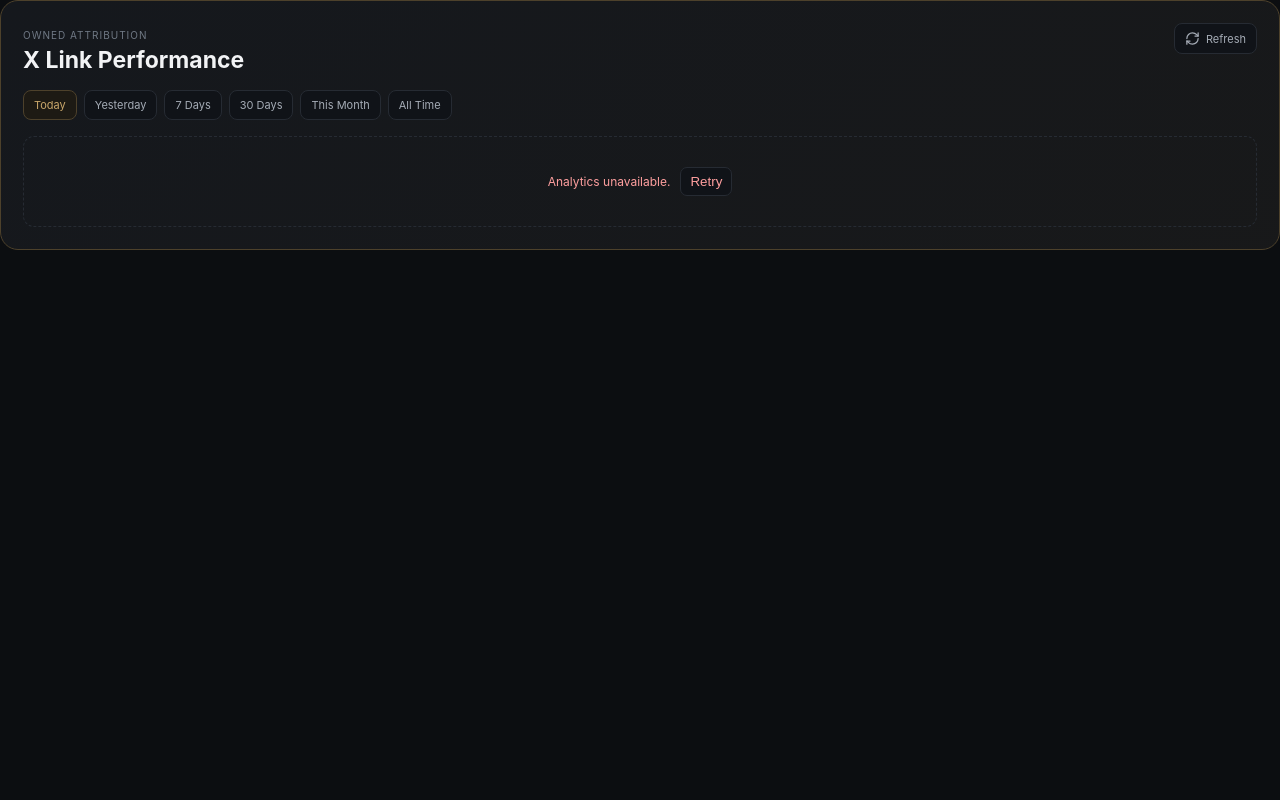
it: X Link Performance › uses the shared period keys and contains API errors
Expected: the message shows "Analytics unavailable.", x1=548 y1=174 x2=670 y2=189
Click the button "7 Days". click: (193, 105)
box: x1=164 y1=90 x2=222 y2=120
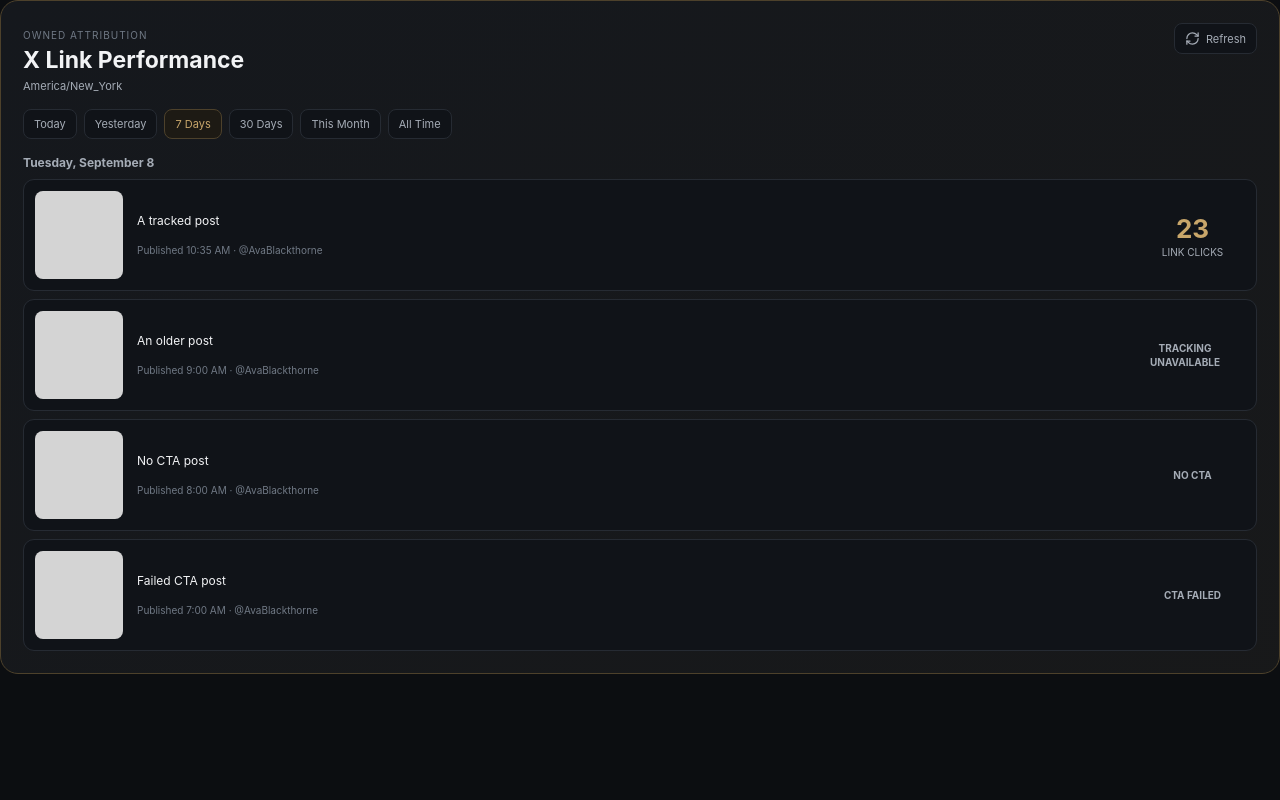
Expected: the text "23" is shown, x1=1176 y1=212 x2=1209 y2=244
